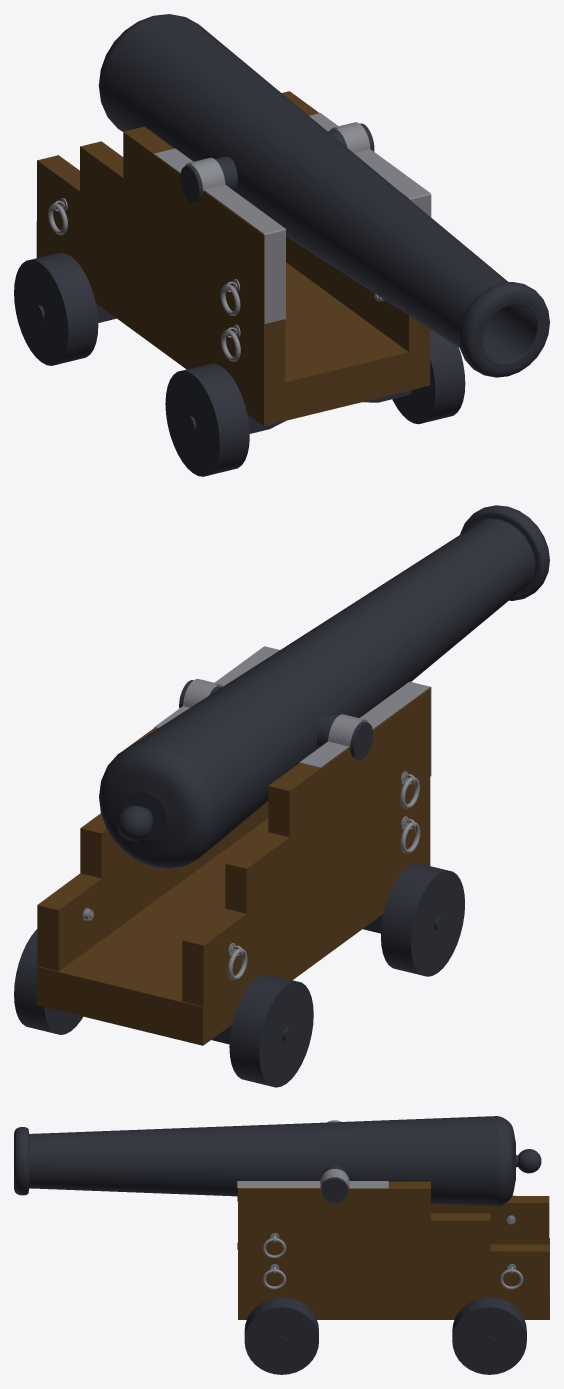
The model's file is Ship Cannon.FBX.
3 renders of one model, top to bottom at view 1: azimuth 30°, elevation 25°; view 2: azimuth 150°, elevation 25°; view 3: azimuth 270°, elevation 25°, orthographic. The views are drawn at different scales.
Parts seen in each view (by area): view 1: Cannon Barrel, Carriage Side 02, Carriage Base, Tire 04, Tire 03, Carriage Side 01, Front Iron 01, Tire 01, Front Iron 02, Axis 02; view 2: Cannon Barrel, Carriage Side 02, Carriage Base, Carriage Side 01, Tire 03, Tire 04, Tire 02, Front Iron 01, Front Iron 02, Axis 02; view 3: Cannon Barrel, Carriage Side 01, Carriage Base, Tire 02, Tire 01, Carriage Side 02, Front Iron 02, Axis 01.
Boxes of the visible parts, x1=… form: Cannon Barrel: x1=98, y1=14, x2=549, y2=377; Carriage Side 02: x1=37, y1=126, x2=285, y2=389; Carriage Base: x1=36, y1=221, x2=430, y2=425; Tire 04: x1=165, y1=363, x2=249, y2=476; Tire 03: x1=14, y1=252, x2=98, y2=365; Carriage Side 01: x1=282, y1=91, x2=430, y2=353; Front Iron 01: x1=154, y1=148, x2=285, y2=323; Tire 01: x1=392, y1=329, x2=465, y2=424; Front Iron 02: x1=309, y1=113, x2=431, y2=217; Axis 02: x1=180, y1=156, x2=237, y2=203; Cannon Barrel: x1=99, y1=505, x2=549, y2=868; Carriage Side 02: x1=182, y1=688, x2=430, y2=1008; Carriage Base: x1=36, y1=818, x2=430, y2=1045; Carriage Side 01: x1=37, y1=728, x2=268, y2=971; Tire 03: x1=229, y1=974, x2=313, y2=1087; Tire 04: x1=381, y1=863, x2=464, y2=976; Tire 02: x1=14, y1=929, x2=82, y2=1034; Front Iron 01: x1=299, y1=681, x2=431, y2=776; Front Iron 02: x1=154, y1=646, x2=279, y2=728; Axis 02: x1=317, y1=713, x2=373, y2=759; Cannon Barrel: x1=14, y1=1116, x2=541, y2=1206; Carriage Side 01: x1=238, y1=1181, x2=549, y2=1293; Carriage Base: x1=238, y1=1238, x2=549, y2=1319; Tire 02: x1=452, y1=1297, x2=526, y2=1374; Tire 01: x1=244, y1=1297, x2=318, y2=1374; Carriage Side 02: x1=431, y1=1195, x2=549, y2=1244; Front Iron 02: x1=237, y1=1168, x2=388, y2=1249; Axis 01: x1=321, y1=1165, x2=347, y2=1202.
Bounding box in the file's own units: 2.93 × 3.48 × 7.91.
